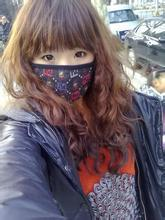OK: (36, 43, 95, 100)
